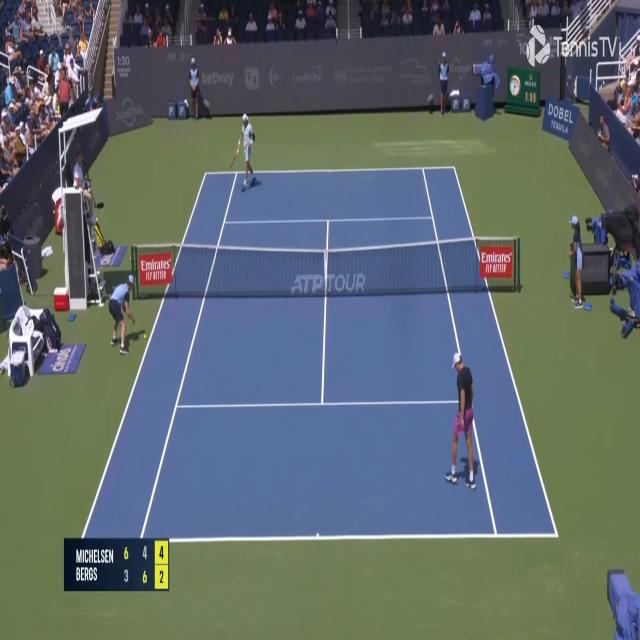tennis-player: (443, 348, 484, 496), (230, 110, 258, 189)
